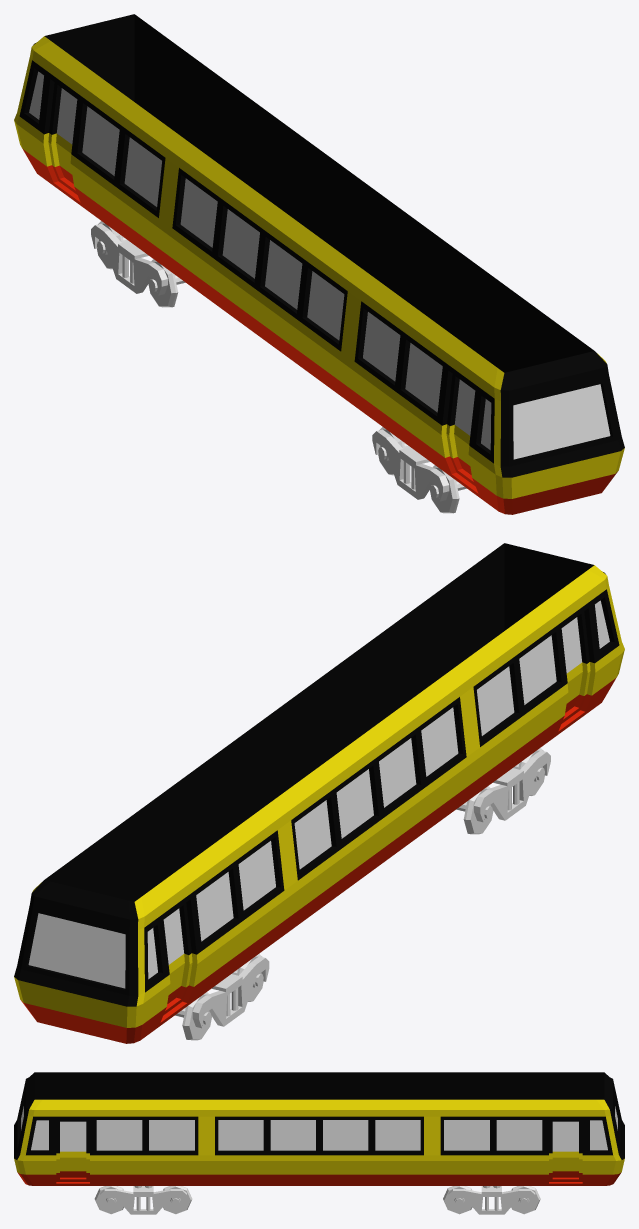
The model's file is Train.glb.
3 views of the same model, one above another, from view 1: azimuth 30°, elevation 25°; view 2: azimuth 150°, elevation 25°; view 3: azimuth 270°, elevation 25° (orthographic). The views are drawn at different scales.
Visible parts, largest first — view 1: Train; view 2: Train; view 3: Train.
Boxes of the visible parts, <box> form: Train: <box>14,14,624,514</box>; Train: <box>14,543,624,1043</box>; Train: <box>14,1072,624,1214</box>.
Size of the model in its own units: 2.65 by 3.72 by 17.88.
